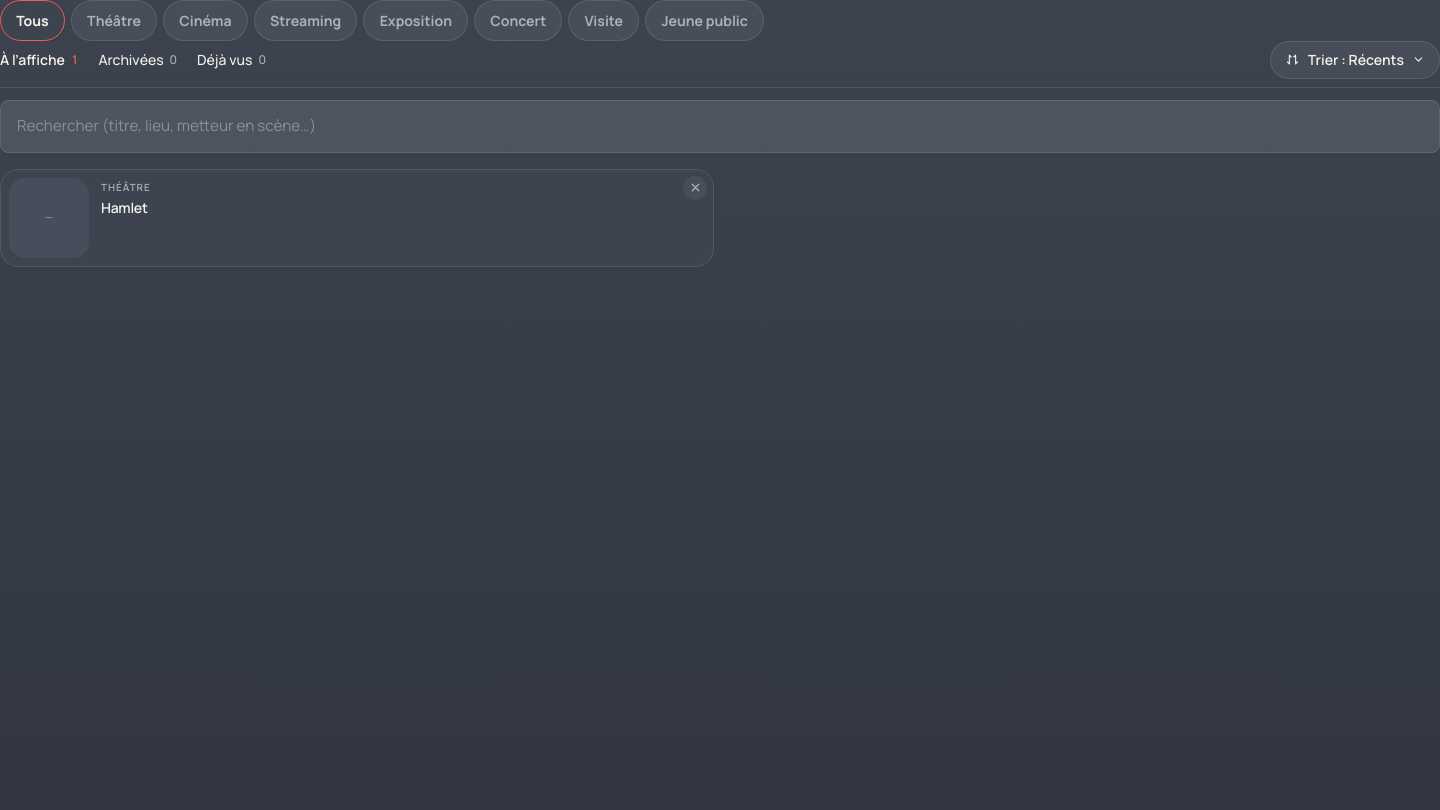
Test: LikesLibrary › ouvre le détail au clic et « Retirer » sort la carte optimistiquement (DISLIKE)
Step 1. Click the button with aria-label "Voir le détail de Hamlet" → click(49, 218), box [1, 170, 713, 266]
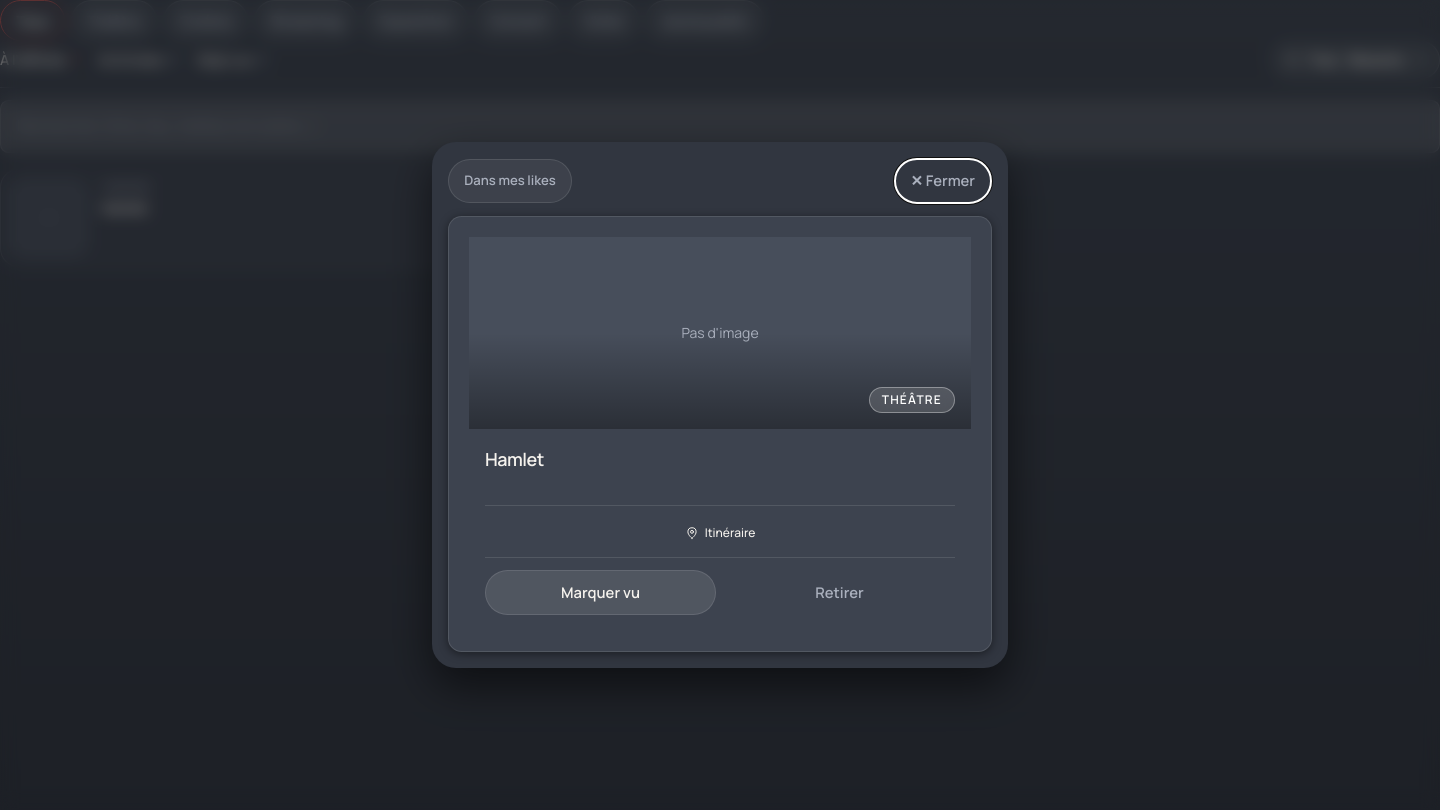
Step 2. Click the button "Retirer" → click(840, 592), box [724, 570, 955, 615]
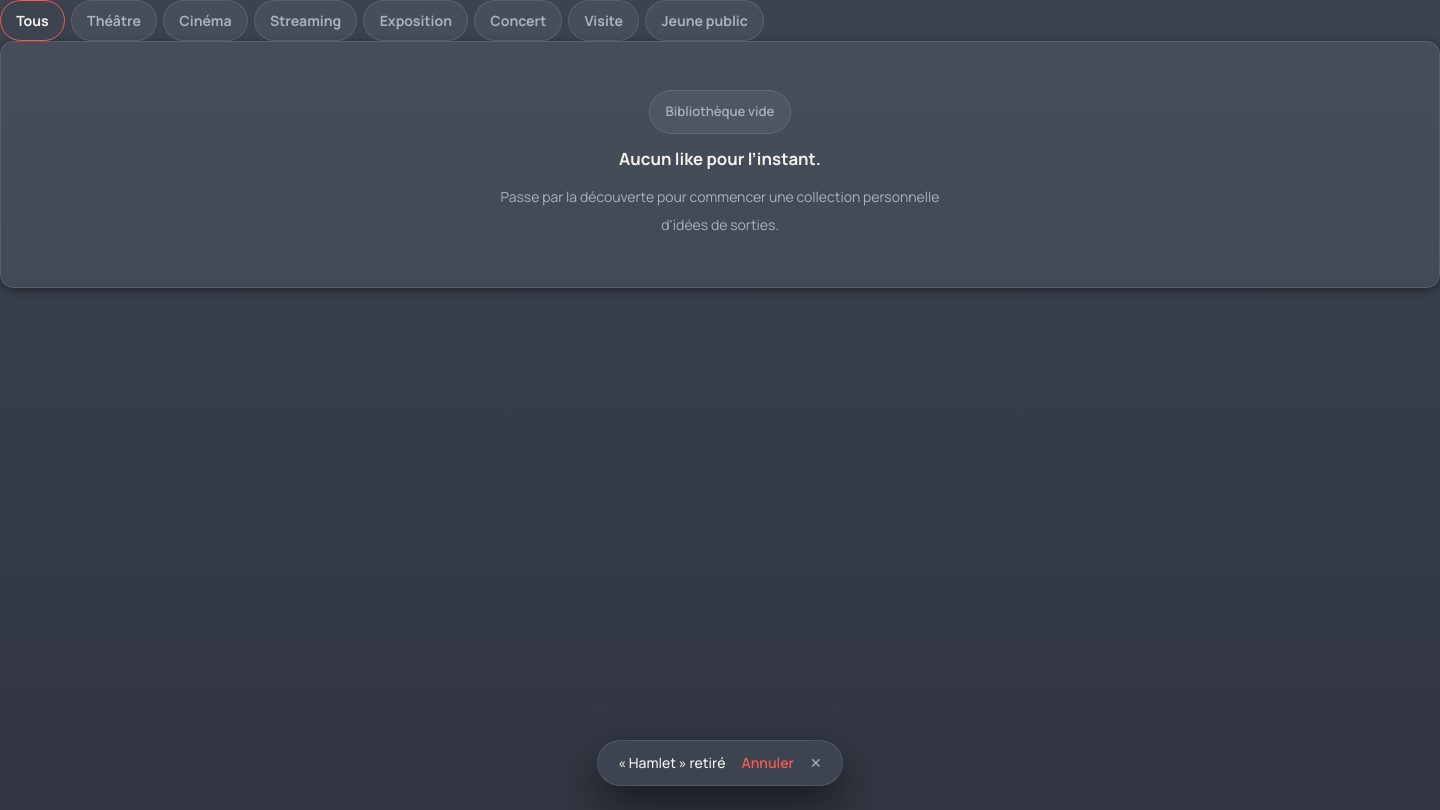
Expected: the button "Annuler" is shown, [742, 753, 794, 773]
